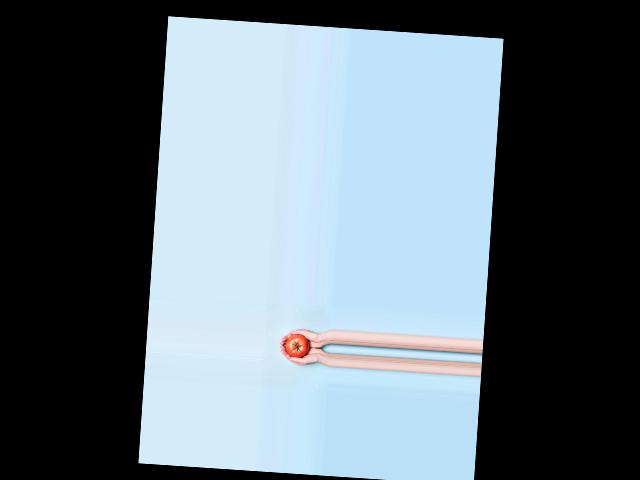tomato: (284, 334, 310, 358)
